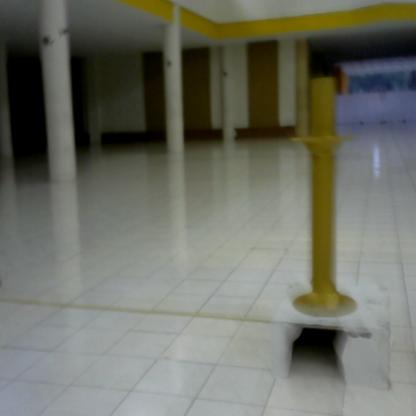pole: (289, 74, 362, 324)
